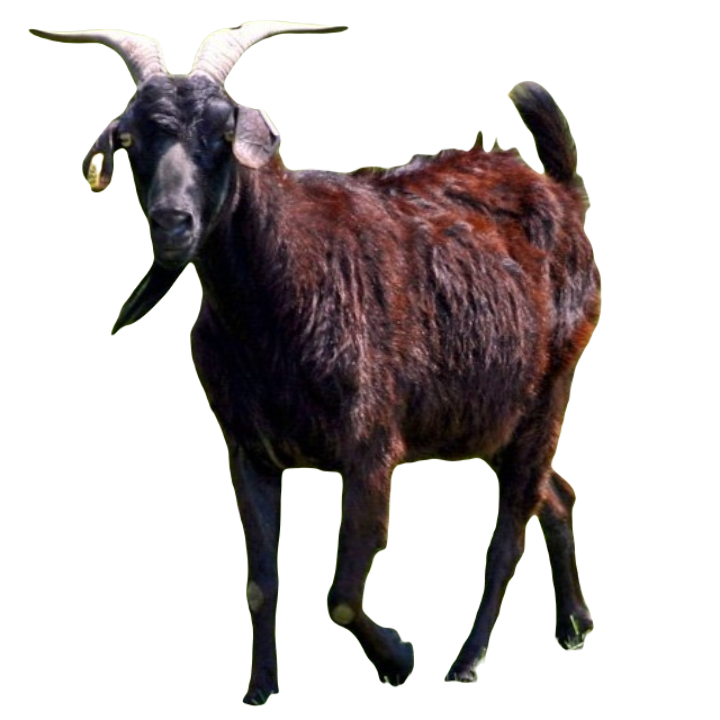Goat: (27, 20, 602, 706)
